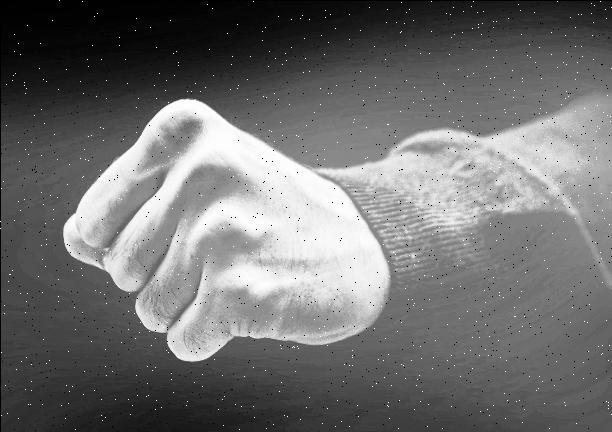Rock: (56, 88, 380, 375)
